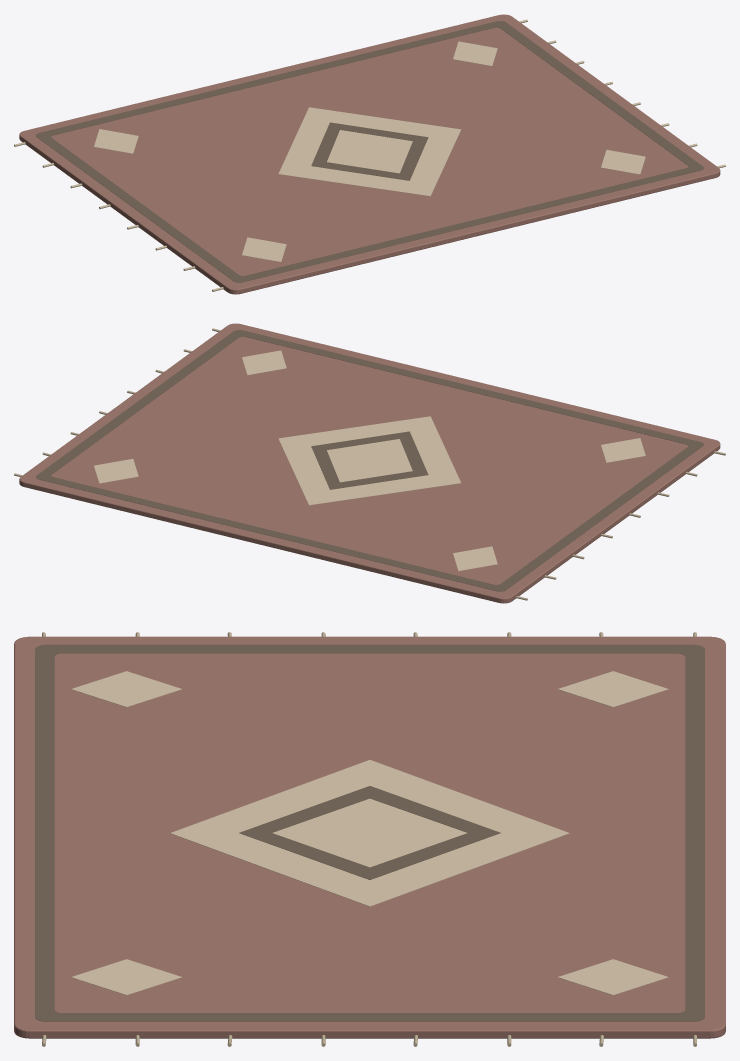
The model's file is persianrug.glb.
3 views of the same model, one above another, from view 1: azimuth 30°, elevation 25°; view 2: azimuth 150°, elevation 25°; view 3: azimuth 270°, elevation 25° (orthographic). The views are drawn at different scales.
Parts seen in each view (by area): view 1: closed-textile-backing, woven-border, central-diamond-medallion, medallion-inner-band, corner-lozenge-1--1, corner-lozenge-1-1, corner-lozenge--1--1, corner-lozenge--1-1; view 2: closed-textile-backing, woven-border, central-diamond-medallion, medallion-inner-band, corner-lozenge--1--1, corner-lozenge-1-1, corner-lozenge--1-1, corner-lozenge-1--1; view 3: closed-textile-backing, woven-border, central-diamond-medallion, medallion-inner-band, corner-lozenge-1--1, corner-lozenge-1-1, corner-lozenge--1--1, corner-lozenge--1-1.
Boxes of the visible parts, box(x1,y1,x2,y2) form: closed-textile-backing: box(19, 14, 720, 294); woven-border: box(35, 21, 703, 282); central-diamond-medallion: box(278, 107, 461, 196); medallion-inner-band: box(311, 122, 428, 180); corner-lozenge-1--1: box(453, 41, 497, 66); corner-lozenge-1-1: box(601, 149, 645, 174); corner-lozenge--1--1: box(94, 129, 138, 153); corner-lozenge--1-1: box(242, 237, 286, 261); closed-textile-backing: box(19, 323, 720, 603); woven-border: box(36, 330, 703, 591); central-diamond-medallion: box(278, 416, 460, 505); medallion-inner-band: box(311, 431, 428, 489); corner-lozenge--1--1: box(453, 546, 497, 571); corner-lozenge-1-1: box(242, 350, 286, 375); corner-lozenge--1-1: box(601, 438, 645, 462); corner-lozenge-1--1: box(94, 459, 138, 483); closed-textile-backing: box(14, 636, 725, 1038); woven-border: box(35, 644, 704, 1021); central-diamond-medallion: box(170, 760, 569, 906); medallion-inner-band: box(239, 786, 500, 879); corner-lozenge-1--1: box(558, 959, 668, 995); corner-lozenge-1-1: box(71, 959, 181, 995); corner-lozenge--1--1: box(558, 671, 668, 707); corner-lozenge--1-1: box(71, 671, 181, 707).
Size of the model in its own units: 2.97 by 0.0303 by 2.17.
